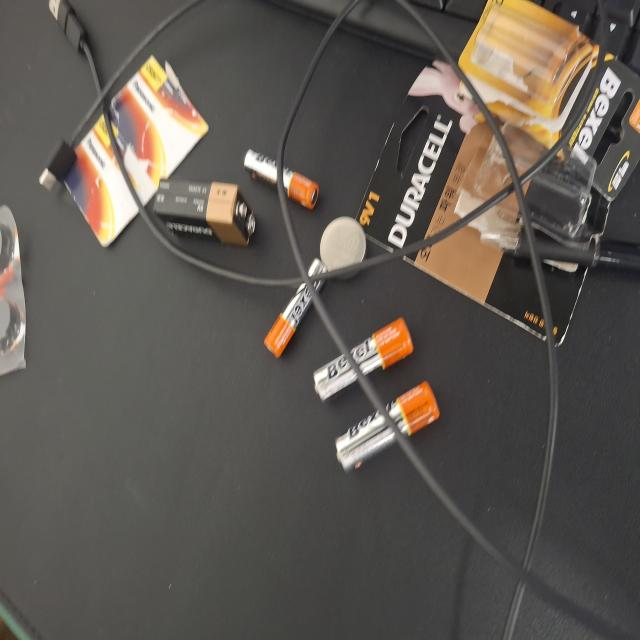9V: (294, 208, 345, 341)
AA: (125, 447, 192, 585), (178, 418, 242, 548)
AAA: (210, 352, 288, 437), (322, 328, 366, 421)
COIN: (272, 425, 319, 487)
